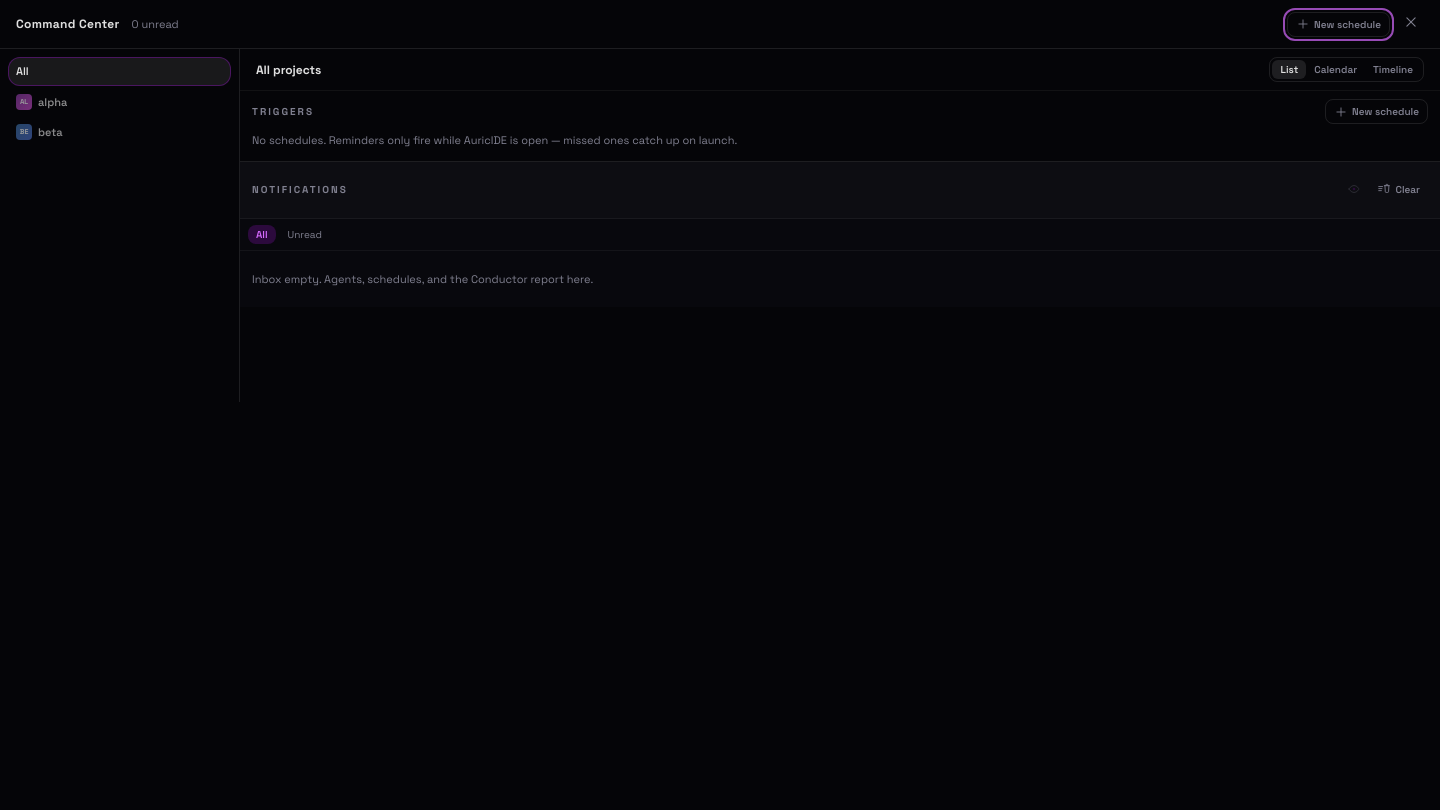
CommandCenter › the schedule editor › fetches the picked project’s skills even with no project open
The width and height of the screenshot is (1440, 810).
Click the button with test id "command-center-new-schedule". click: (1338, 24)
box: x1=1287 y1=12 x2=1390 y2=36
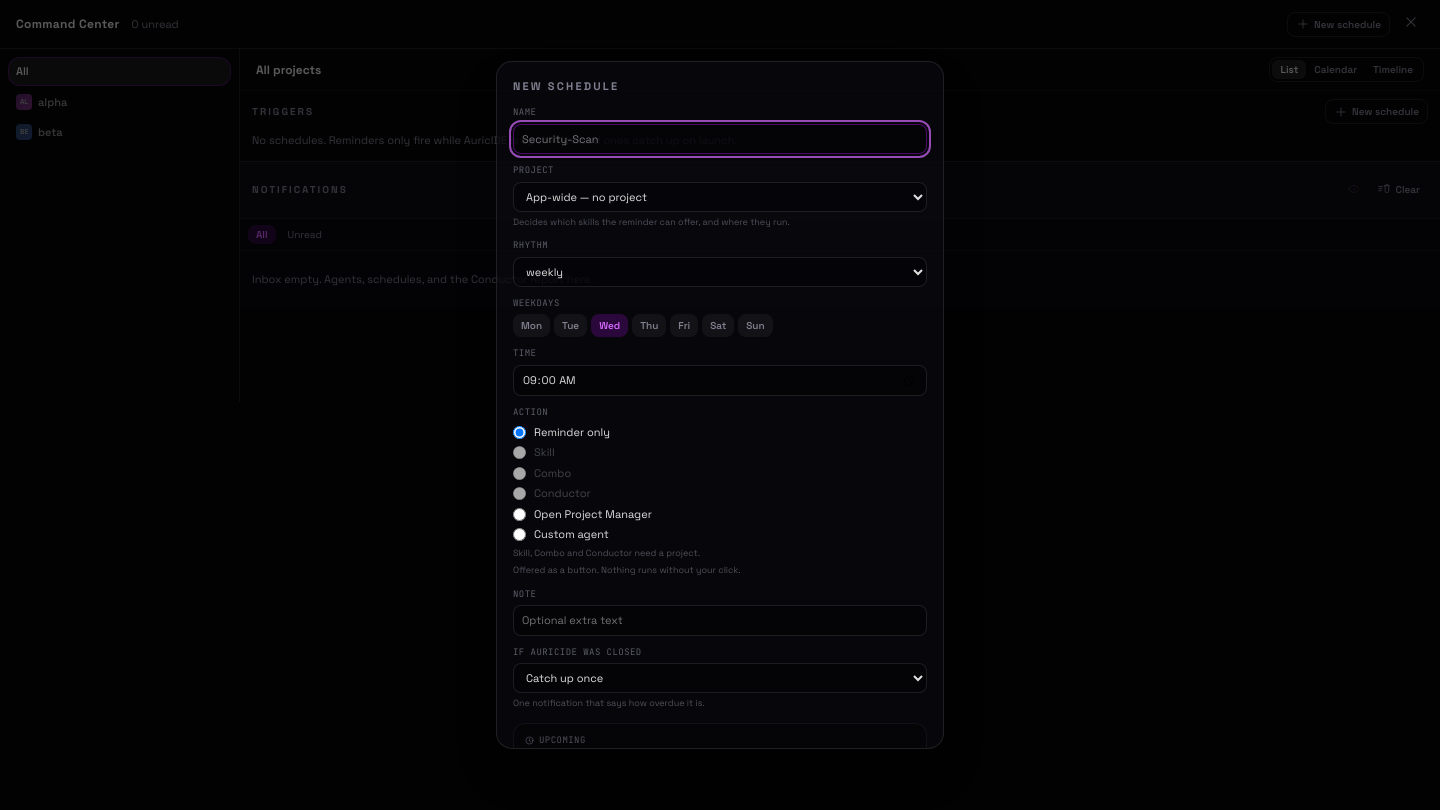
Check: the dropdown with test id "schedule-project" shows "App-wide — no project"
Check: the radio button with test id "schedule-action-skill" is disabled, box x1=513 y1=446 x2=526 y2=459
Select "alpha" in the dropdown with test id "schedule-project". click: (720, 197)
box: x1=513 y1=182 x2=927 y2=212
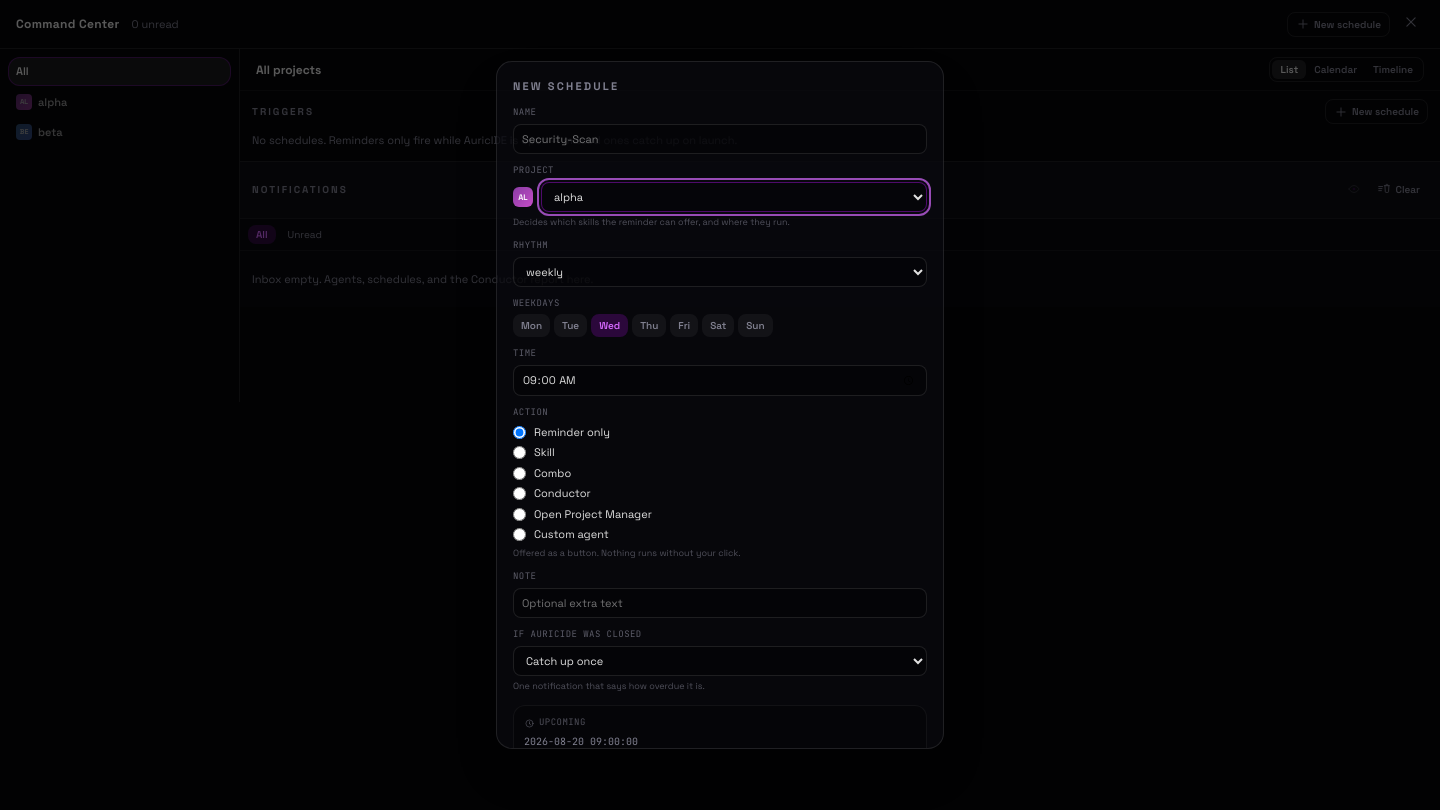
Check: the radio button with test id "schedule-action-skill" is enabled, box x1=513 y1=446 x2=526 y2=459
